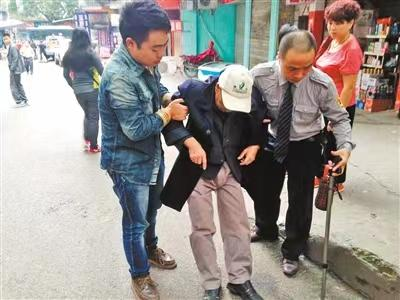bending: (171, 65, 265, 300)
up: (100, 7, 187, 300), (251, 35, 342, 276), (59, 28, 108, 156), (1, 33, 34, 114)
